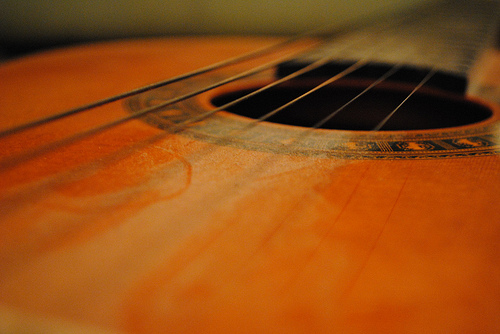guitar: (1, 12, 498, 332)
